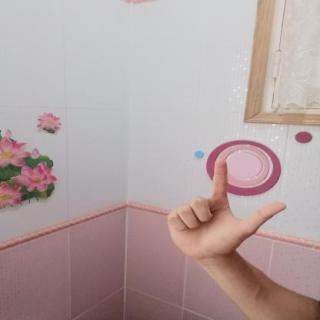LAAM: (159, 152, 295, 265)
